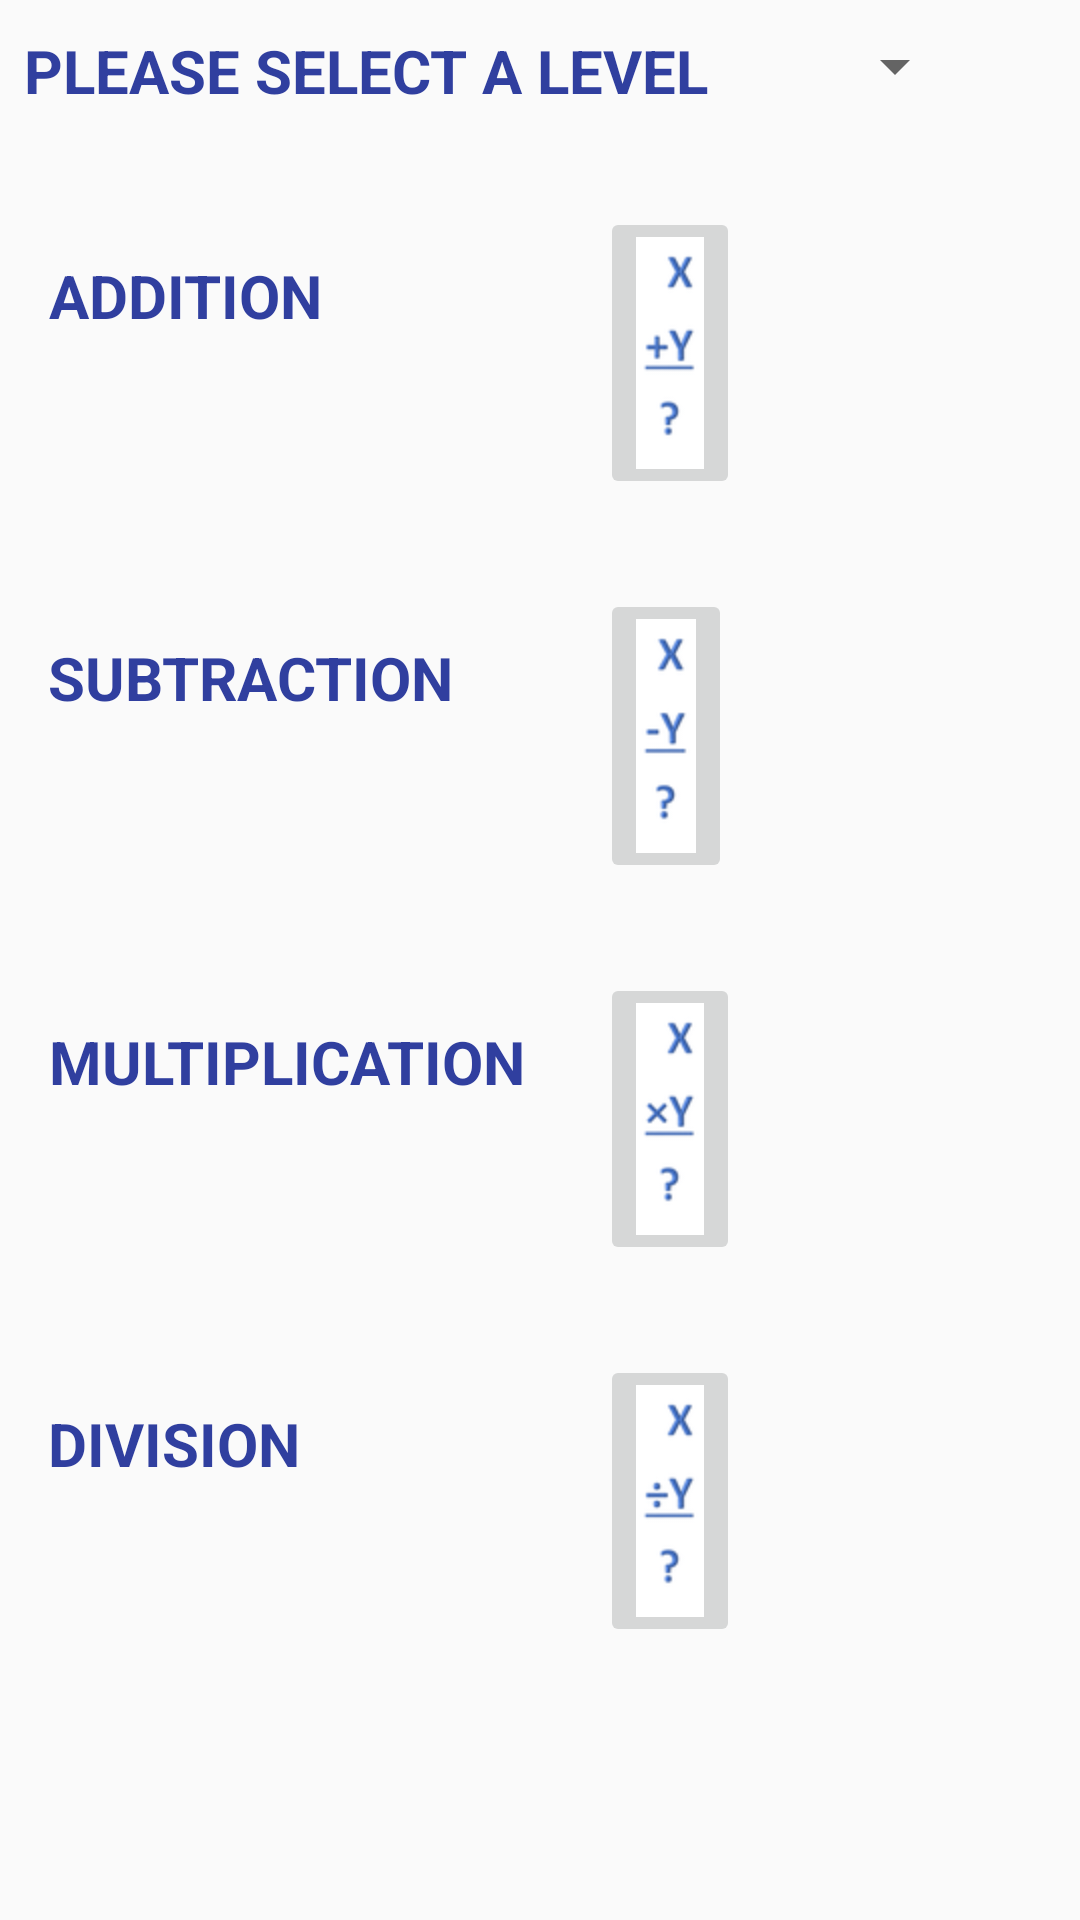

Locate icon controls on the screen. Image size 1080w x 1920h, boxes as bbox(x1, y1, x2, y2).
Addition Problems Type 1: bbox(612, 225, 728, 481)
Division Problems Type 1: bbox(612, 1373, 728, 1629)
